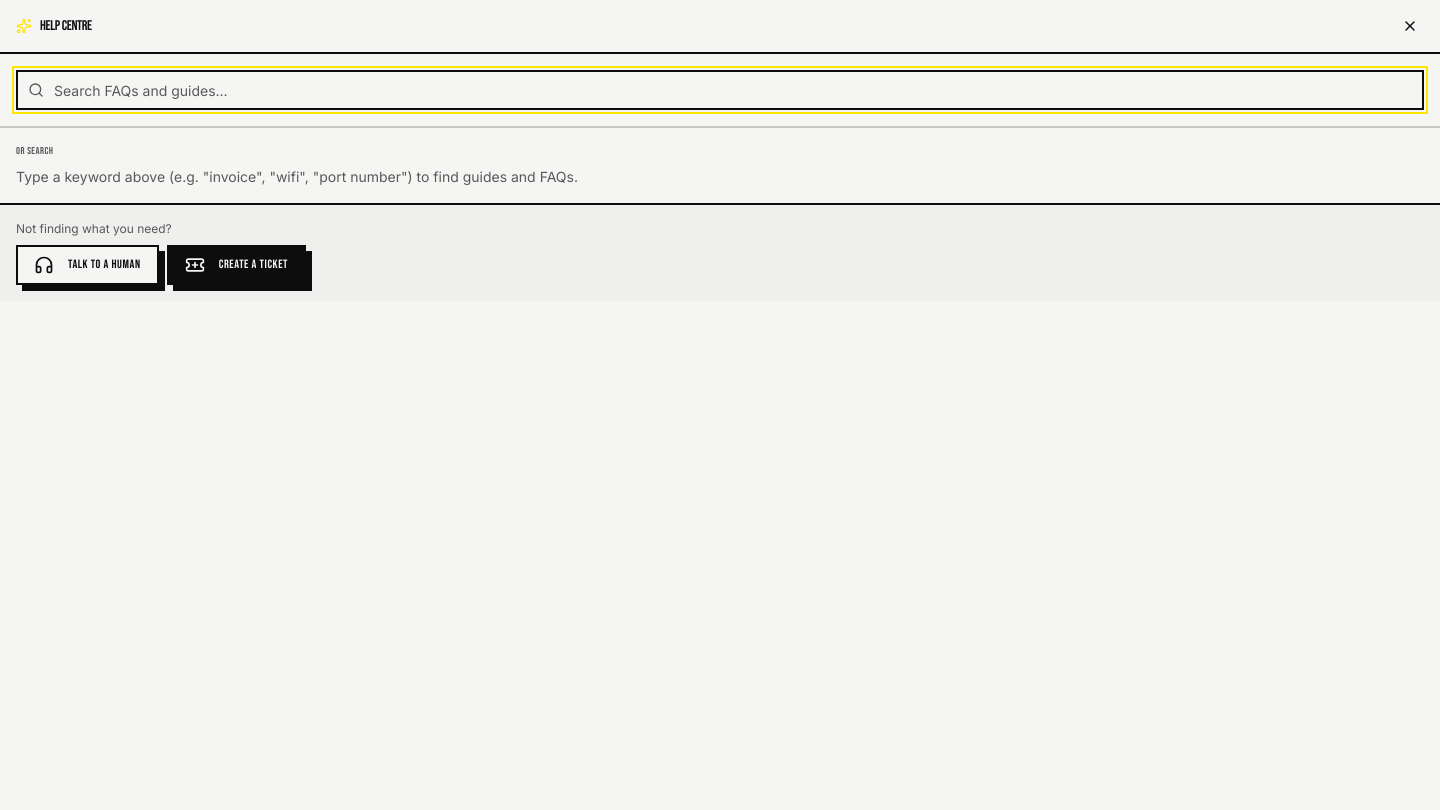
Test: ChatHelpPanel › highlights matched terms in search results
In the field named "search help centre": {"x": 720, "y": 90} [16,70,1424,110], type "invoice"
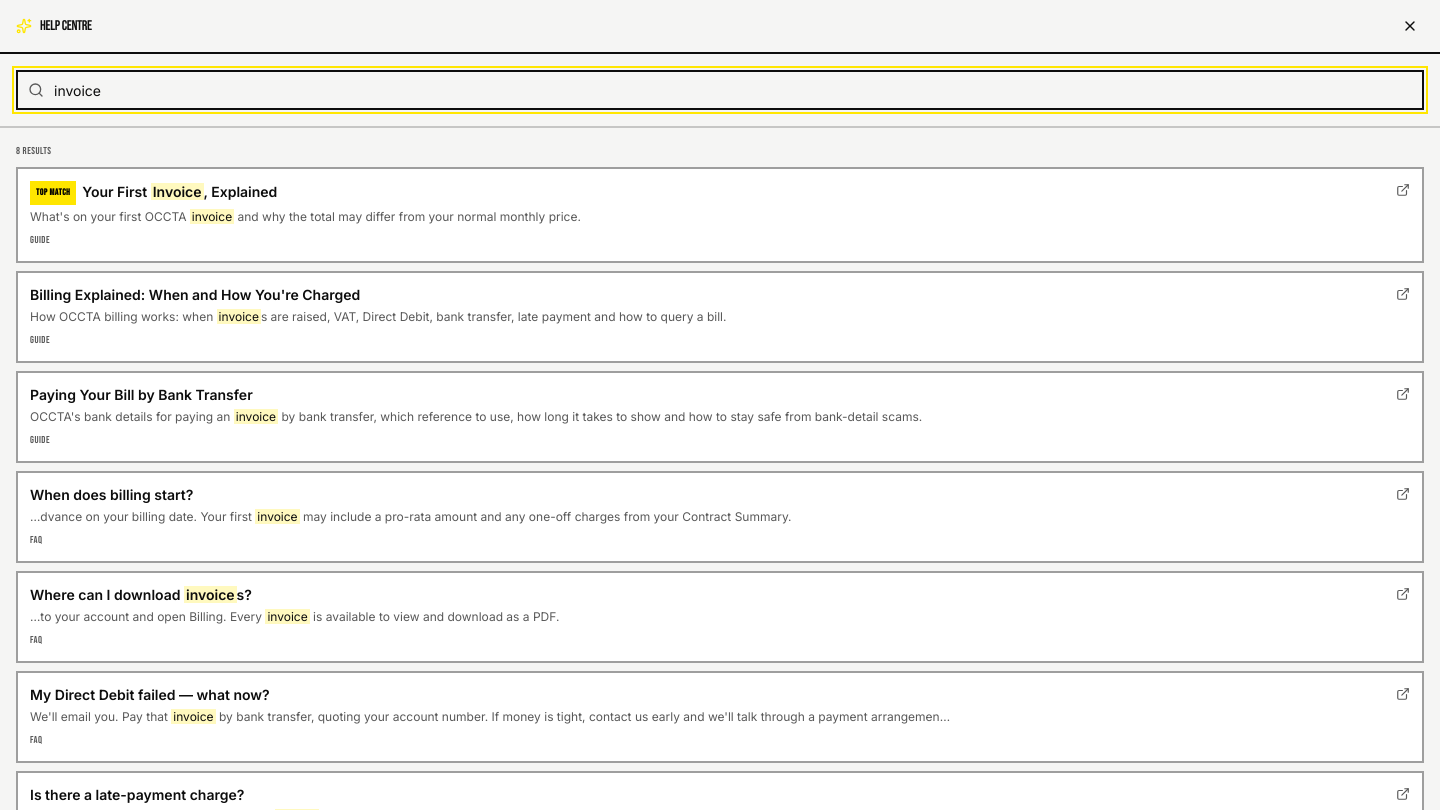
Expected: the text "Invoice" is shown, [151,183,204,200]
